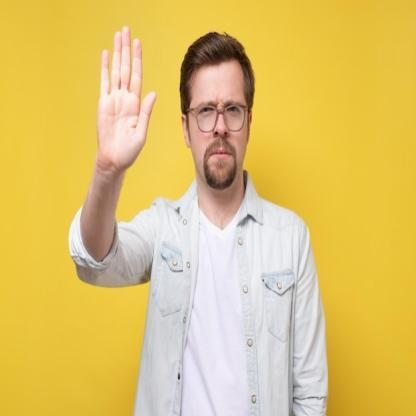stop: (96, 22, 158, 172)
